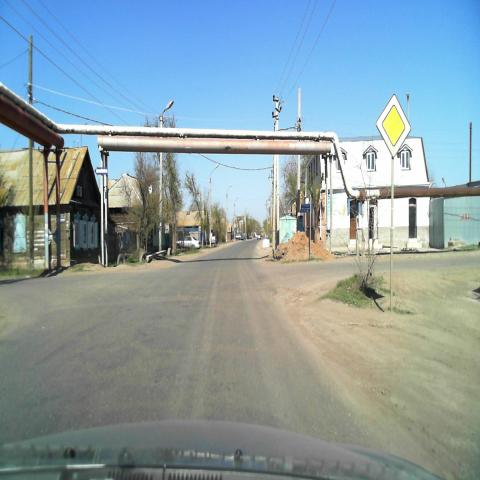2_1: (376, 94, 412, 160)
